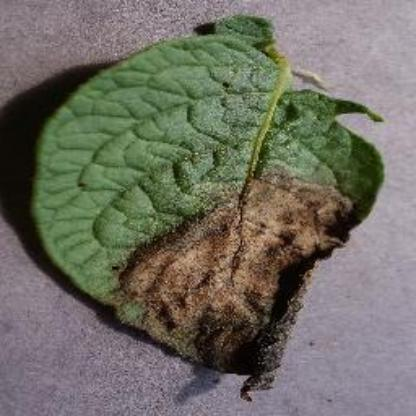Late-Blight: (27, 10, 396, 394)
